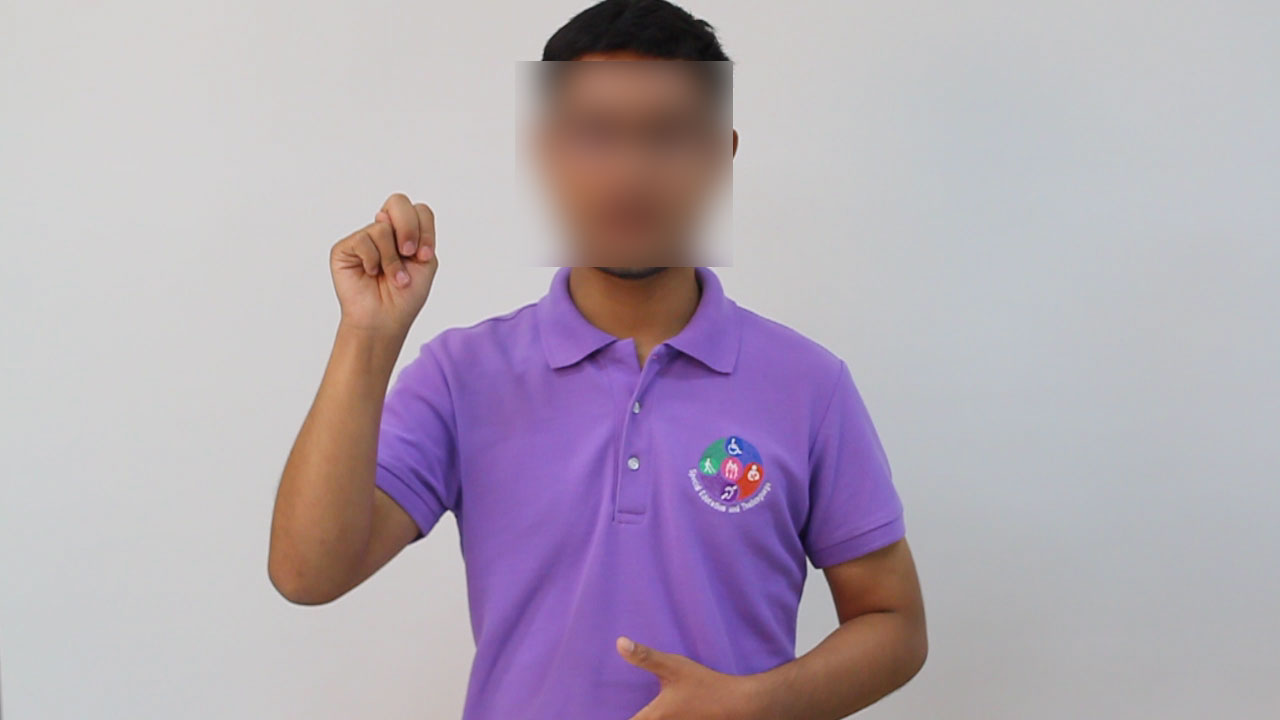nor: (316, 185, 451, 338)
